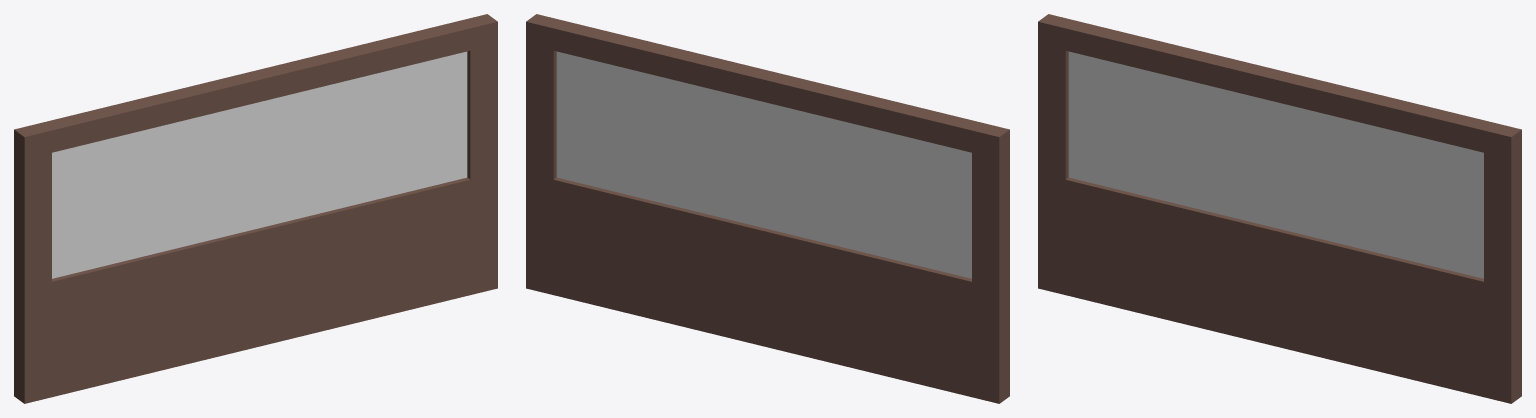
Rendered from Wall_Big.fbx.
The picture shows the model from 3 angles, left to right: view 1: azimuth 30°, elevation 25°; view 2: azimuth 150°, elevation 25°; view 3: azimuth 330°, elevation 25°; orthographic projection.
Visible parts, largest first — view 1: Cube.001; view 2: Cube.001; view 3: Cube.001.
Boxes of the visible parts, x1=… form: Cube.001: x1=14, y1=14, x2=497, y2=403; Cube.001: x1=526, y1=14, x2=1009, y2=403; Cube.001: x1=1038, y1=14, x2=1521, y2=403.
Size of the model in its own units: 1300 by 700 by 50.
